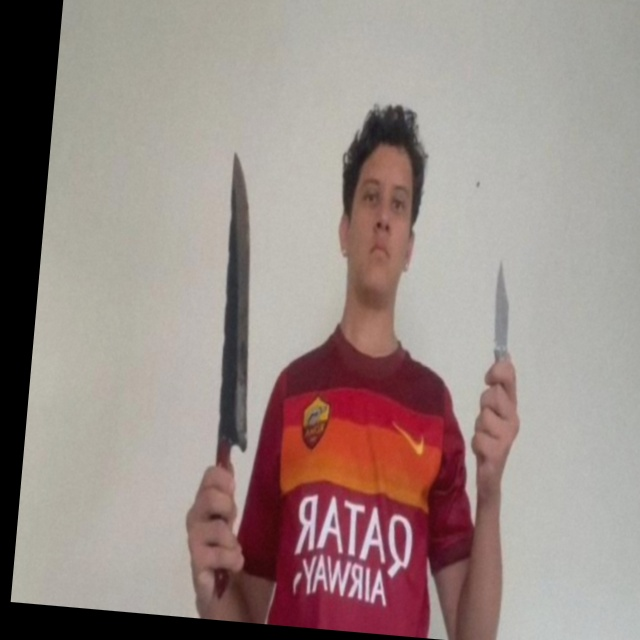Sharp-Object: (208, 145, 274, 452), (491, 254, 515, 352)
